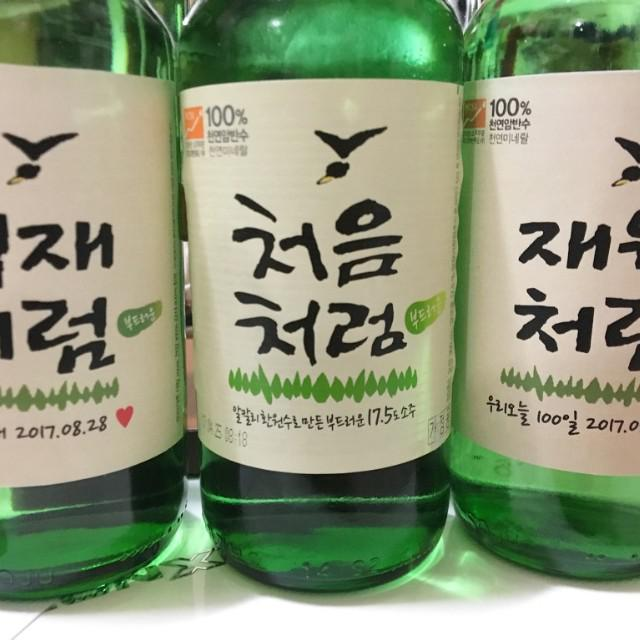soju: (3, 1, 640, 597)
